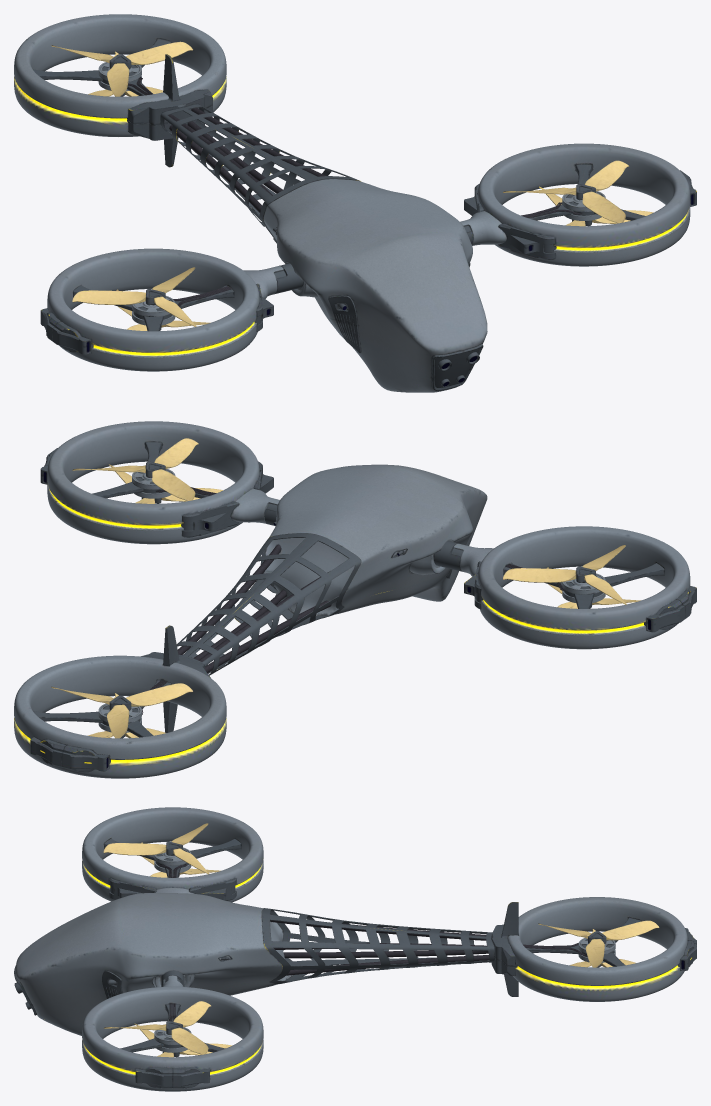
3 renders of one model, top to bottom at view 1: azimuth 30°, elevation 25°; view 2: azimuth 150°, elevation 25°; view 3: azimuth 270°, elevation 25°, orthographic. The views are drawn at different scales.
Visible parts, largest first — view 1: Sci-Fi Surveillance Drone_0; view 2: Sci-Fi Surveillance Drone_0; view 3: Sci-Fi Surveillance Drone_0.
Part boxes in pixels (x1,y1,x2,y2): Sci-Fi Surveillance Drone_0: (14,14,696,392); Sci-Fi Surveillance Drone_0: (14,421,696,778); Sci-Fi Surveillance Drone_0: (14,807,696,1091).
Size of the model in its own units: 11.76 by 2.64 by 12.88.
Materials: 1 (1 with a texture image).
